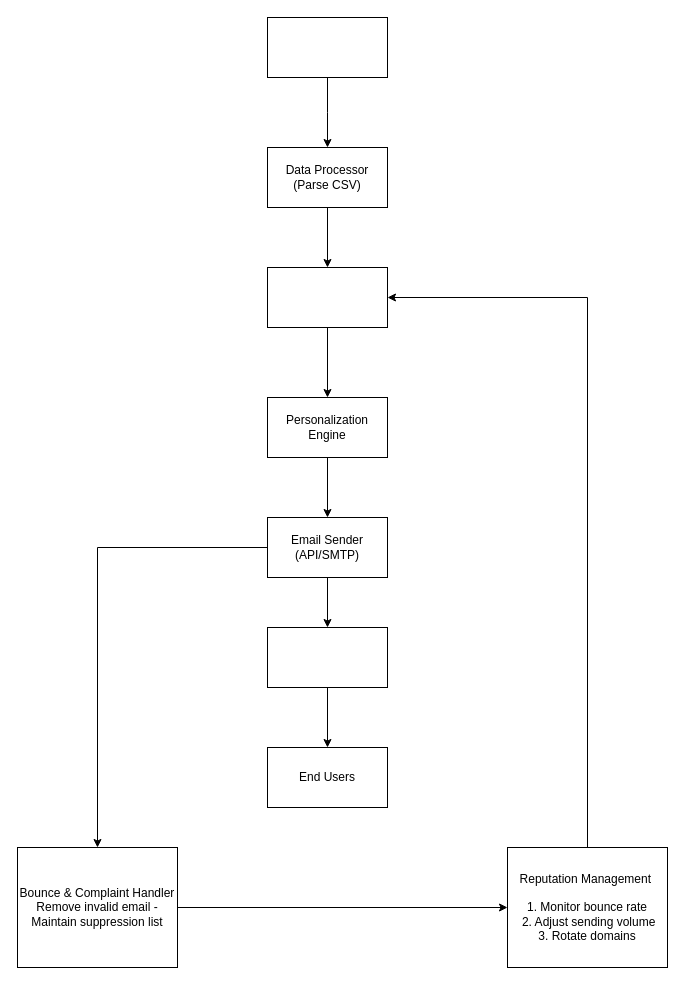
This 685x985 diagram has some shape labels left out. The centre of each missing label's shape, as x and y in pixels:
"CSV Upload" belongs at (327,47).
"ESP (SendGrid)" belongs at (327,657).
"Queue System (Batch/Delay)" belongs at (327,297).
